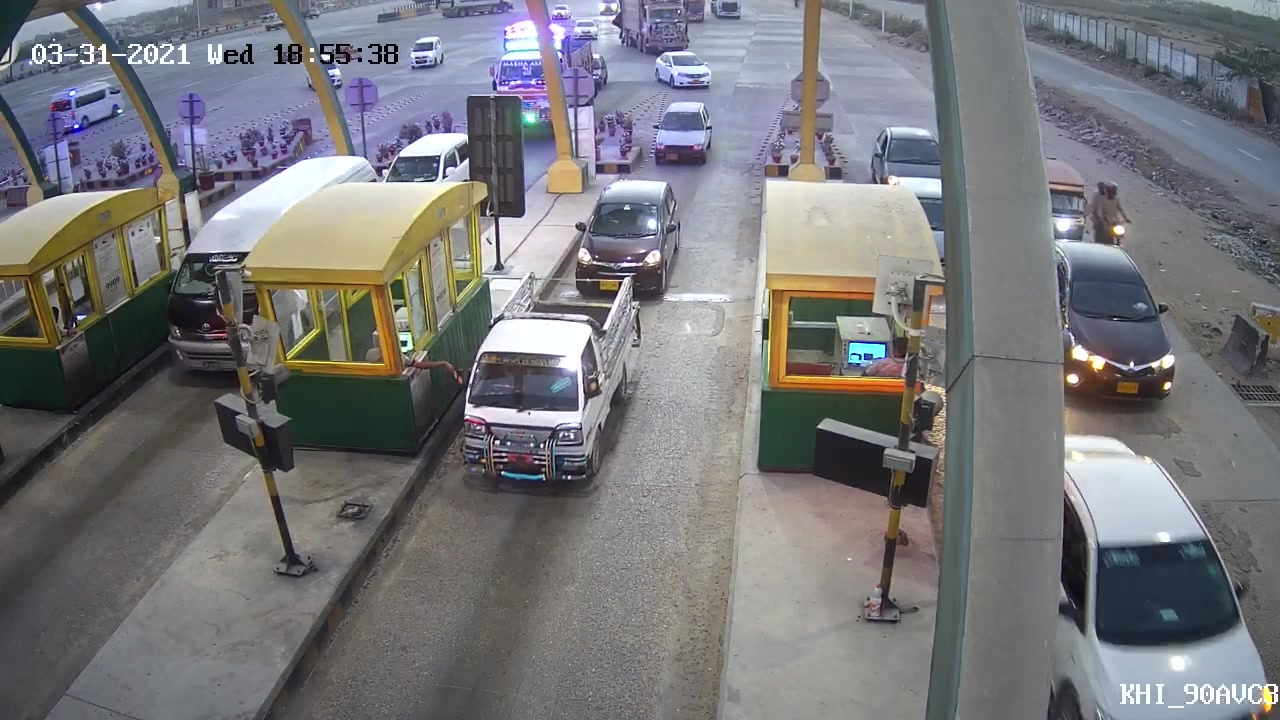F1: (443, 269, 638, 484)
